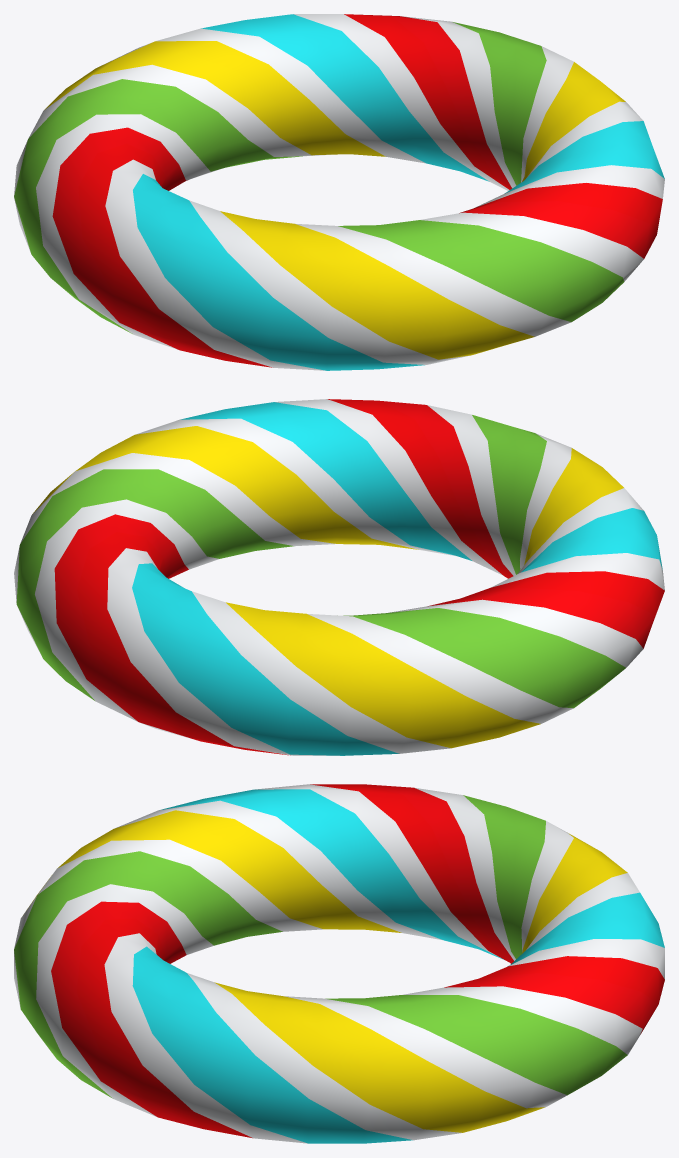
Rendered from lollipop_007.glb.
3 renders of one model, top to bottom at view 1: azimuth 30°, elevation 25°; view 2: azimuth 150°, elevation 25°; view 3: azimuth 270°, elevation 25°, orthographic.
Visible parts, largest first — view 1: lollipop_007; view 2: lollipop_007; view 3: lollipop_007.
Boxes of the visible parts, x1=… form: lollipop_007: x1=14, y1=14, x2=664, y2=370; lollipop_007: x1=14, y1=399, x2=664, y2=755; lollipop_007: x1=14, y1=784, x2=664, y2=1143.
Bounding box in the file's own units: 5.86 × 1.32 × 5.85.
1 material, 1 textured.
